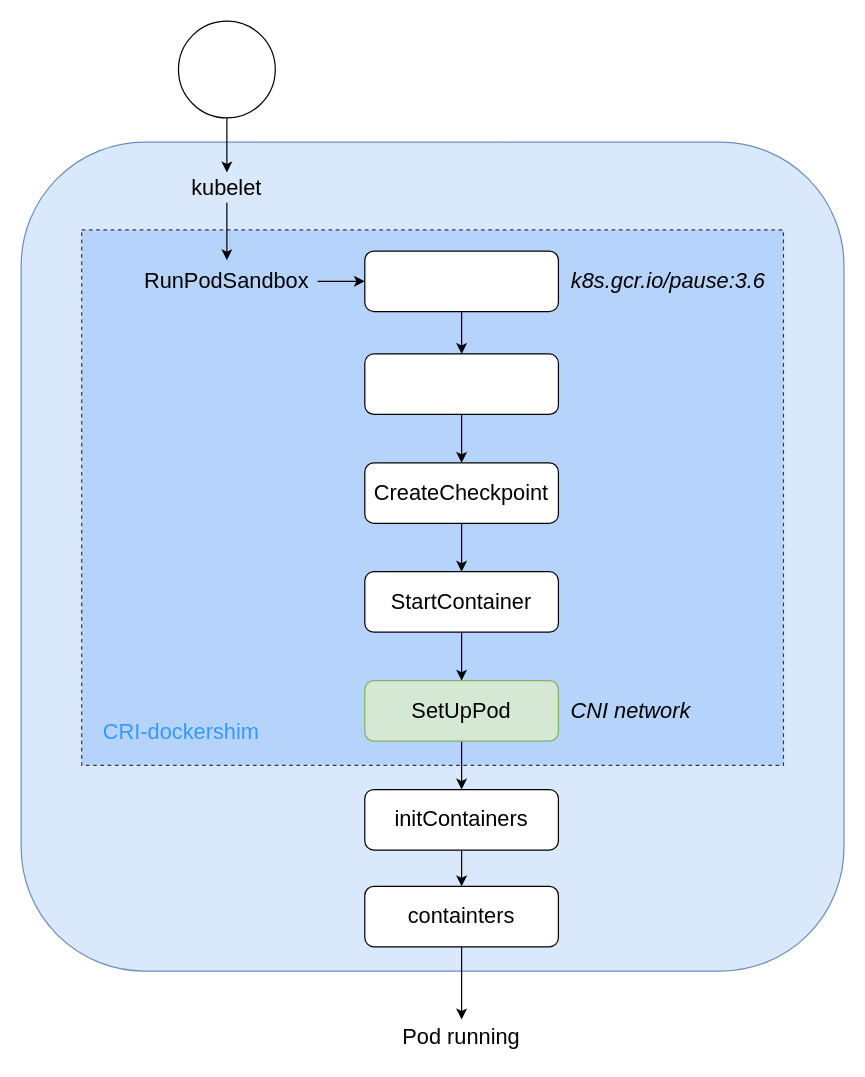
The diagram is 865 pixels wide and 1077 high, and some of its shapes have lost their labels. The centre of each missing label's shape, as x and y in pixels:
"CreateContainer" goes at (x=461, y=383).
"infra-container" goes at (x=461, y=281).
"Pod" goes at (x=226, y=69).
